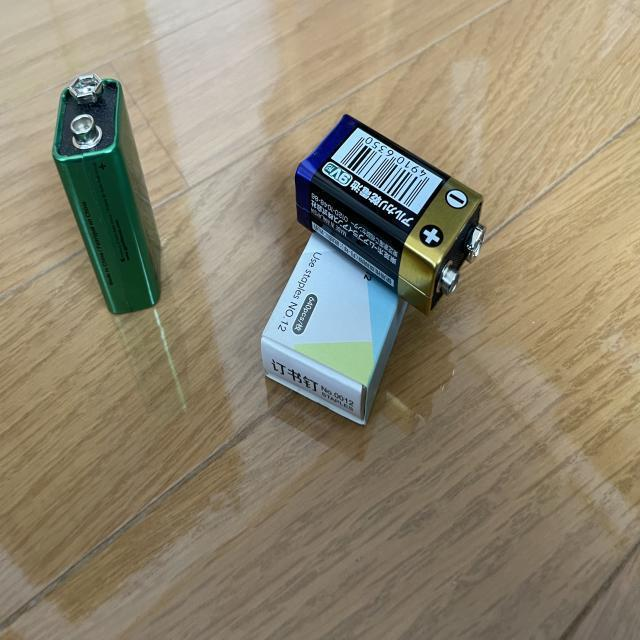9V: (296, 114, 486, 317), (53, 75, 161, 317)
